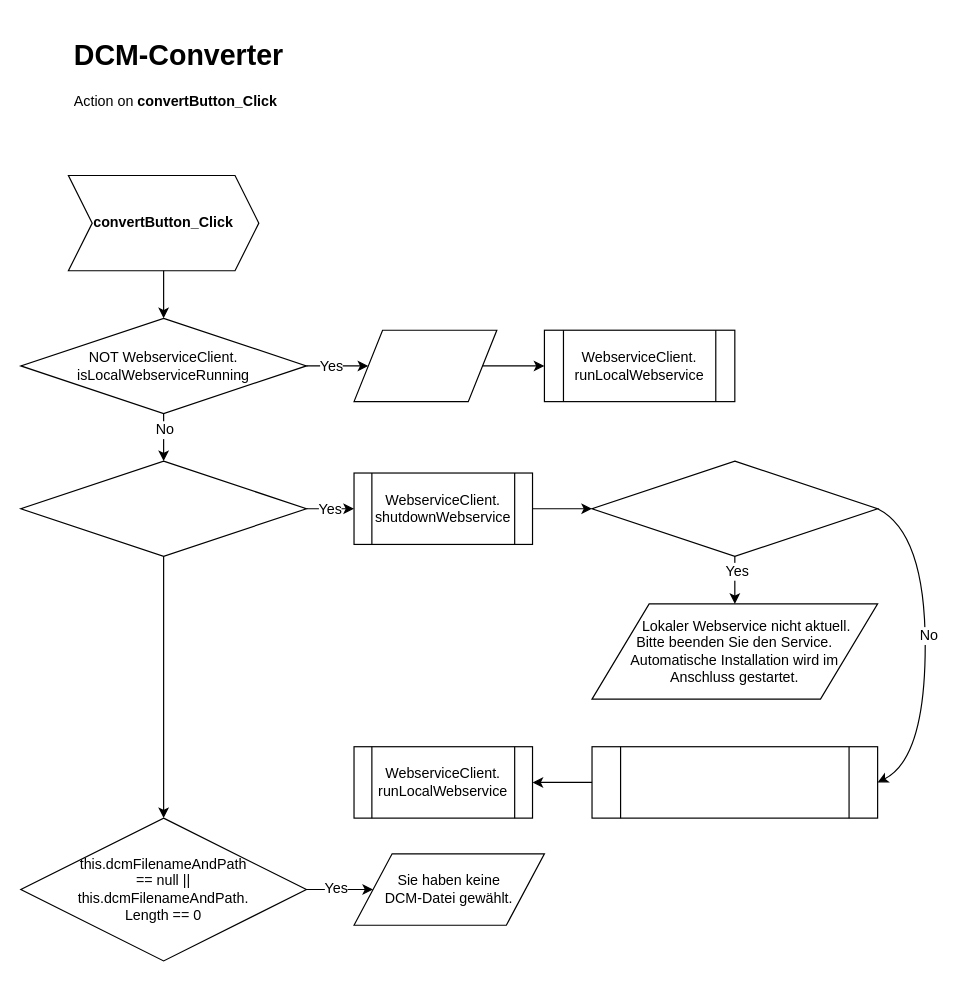
Some shapes in this 958 by 982 pixel diagram are drawn without their labels. Here are the shapes that lost their labels. From the top down, the centre of each, then its label:
At [425,365]: "Lokaler Service nicht aktiv!".
At [163,508]: "NOT WebserviceClient. isLocalWebserviceVersionOK".
At [734,508]: "WebserviceClient. isLocalWebserviceRunning".
At [734,782]: "WebserviceClient. updateLocalWebservice".
